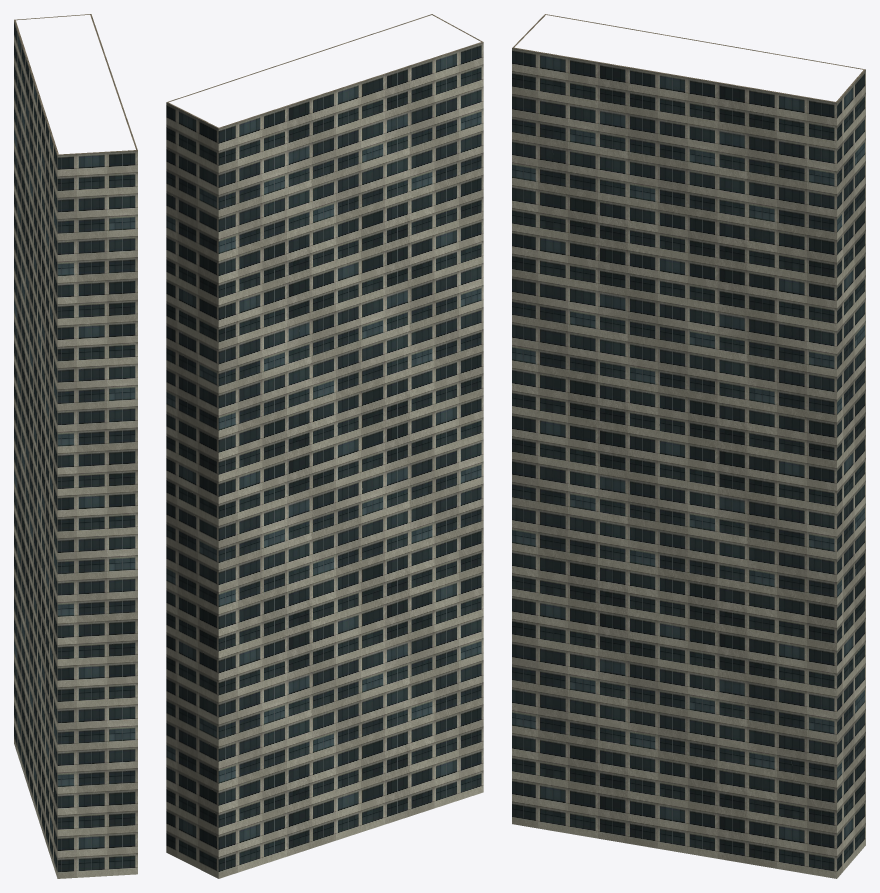
The picture shows the model from 3 angles, left to right: view 1: azimuth 30°, elevation 25°; view 2: azimuth 150°, elevation 25°; view 3: azimuth 270°, elevation 25°; orthographic projection. The views are drawn at different scales.
Visible parts, largest first — view 1: RecessedBalconies, ConcreteRoof; view 2: RecessedBalconies, ConcreteRoof; view 3: RecessedBalconies, ConcreteRoof.
Boxes of the visible parts, bbox=[...] form: RecessedBalconies: bbox=[14, 20, 137, 878]; ConcreteRoof: bbox=[14, 14, 137, 154]; RecessedBalconies: bbox=[166, 42, 483, 878]; ConcreteRoof: bbox=[166, 14, 483, 128]; RecessedBalconies: bbox=[512, 48, 865, 878]; ConcreteRoof: bbox=[512, 14, 865, 102].
Bounding box in the file's own units: 29.75 × 121 × 49.99.
2 materials, 2 textured.
